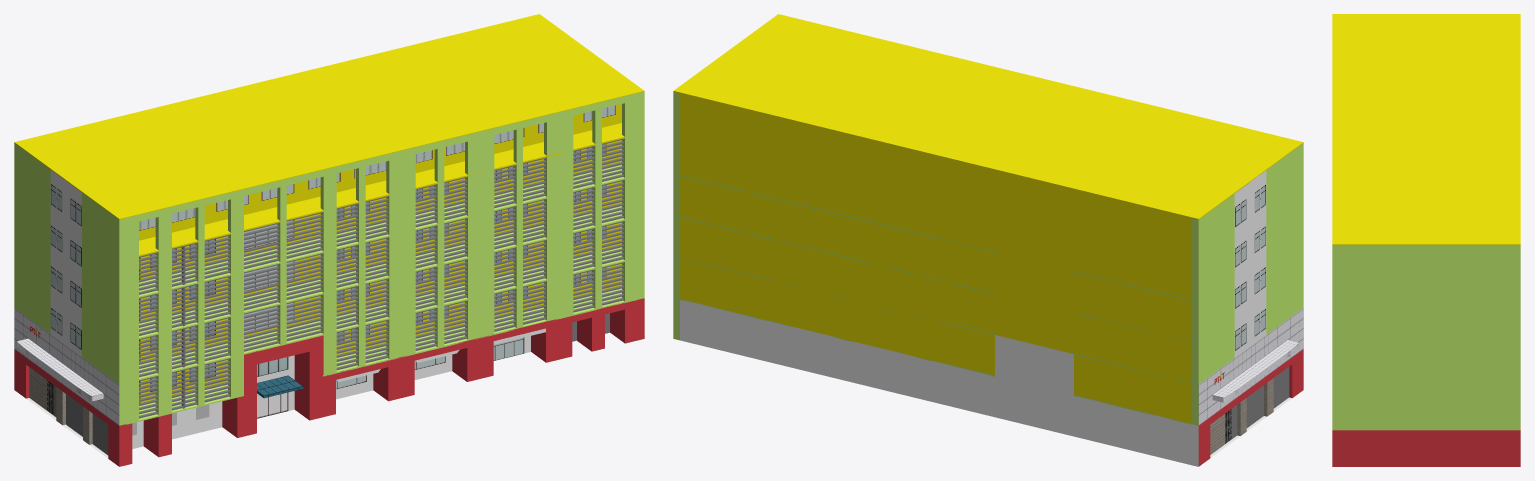
File: toa A3.fbx
The picture shows the model from 3 angles, left to right: view 1: azimuth 30°, elevation 25°; view 2: azimuth 150°, elevation 25°; view 3: azimuth 270°, elevation 25°; orthographic projection. The views are drawn at different scales.
Parts seen in each view (by area): view 1: A3; view 2: A3; view 3: A3.
Part boxes in pixels (x1,y1,x2,y2): A3: (14,14,644,466); A3: (673,14,1303,466); A3: (1332,14,1520,466).
Size of the model in its own units: 8200 by 3610 by 2770.
